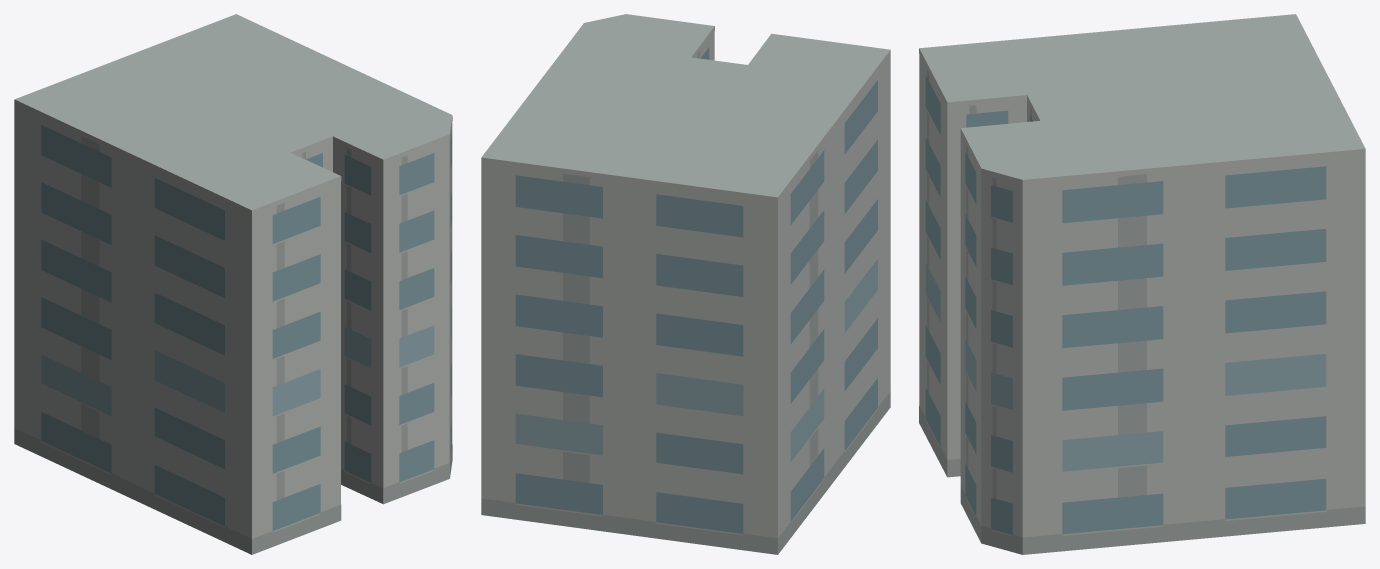
The model's file is survey-upis-32698508.glb.
3 renders of one model, left to right at view 1: azimuth 30°, elevation 25°; view 2: azimuth 150°, elevation 25°; view 3: azimuth 270°, elevation 25°, orthographic. The views are drawn at different scales.
Visible parts, largest first — view 1: survey-upis-32698508.tmp; view 2: survey-upis-32698508.tmp; view 3: survey-upis-32698508.tmp.
Part boxes in pixels (left/top/right/bottom): survey-upis-32698508.tmp: left=14, top=14, right=452, bottom=554; survey-upis-32698508.tmp: left=481, top=14, right=890, bottom=554; survey-upis-32698508.tmp: left=919, top=14, right=1365, bottom=554.
Bounding box in the file's own units: 15.86 × 16.7 × 18.03.
